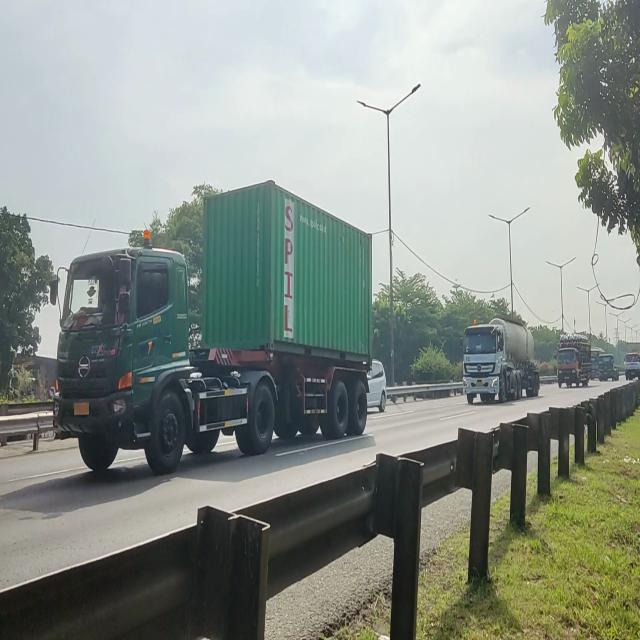Golongan IV: (48, 220, 372, 478)
